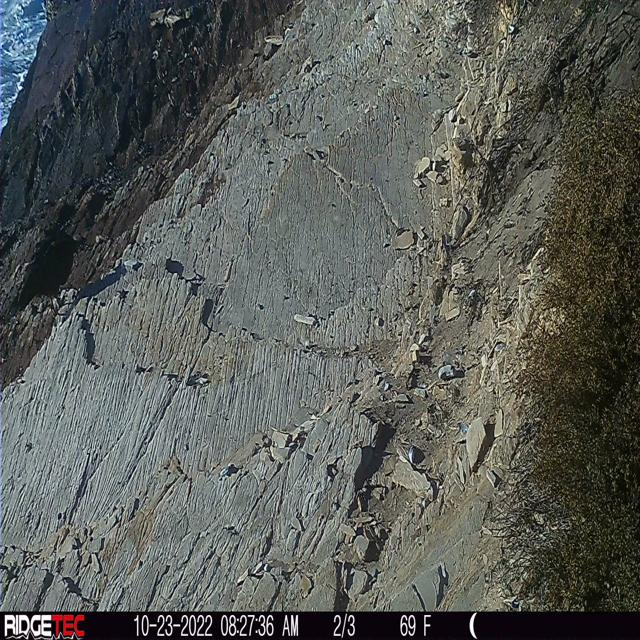bird: (4, 217, 93, 304)
